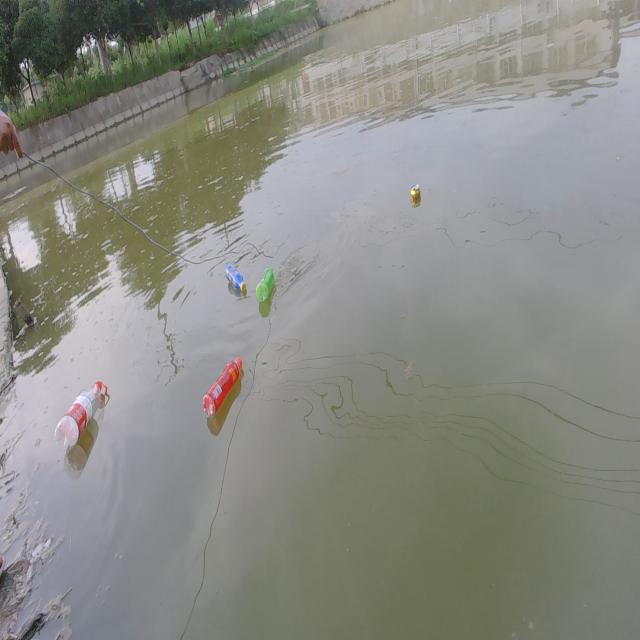bottle: (195, 348, 258, 429), (54, 368, 116, 446), (248, 258, 283, 309), (210, 259, 249, 298)
